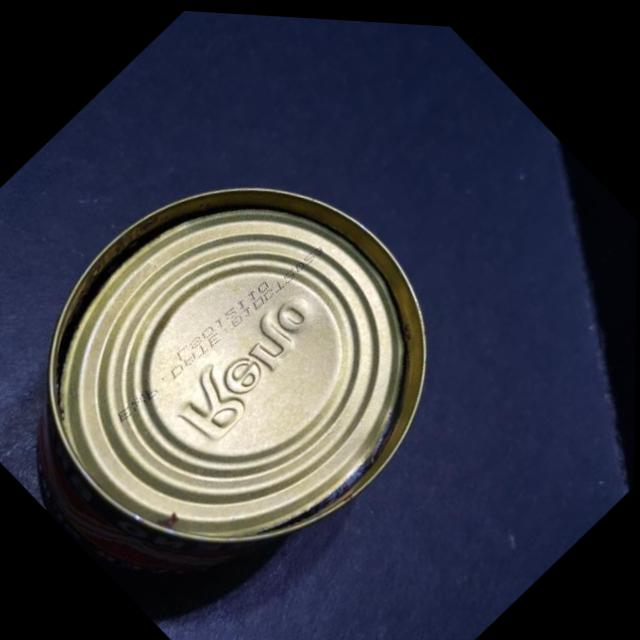metal: (0, 83, 508, 640)
